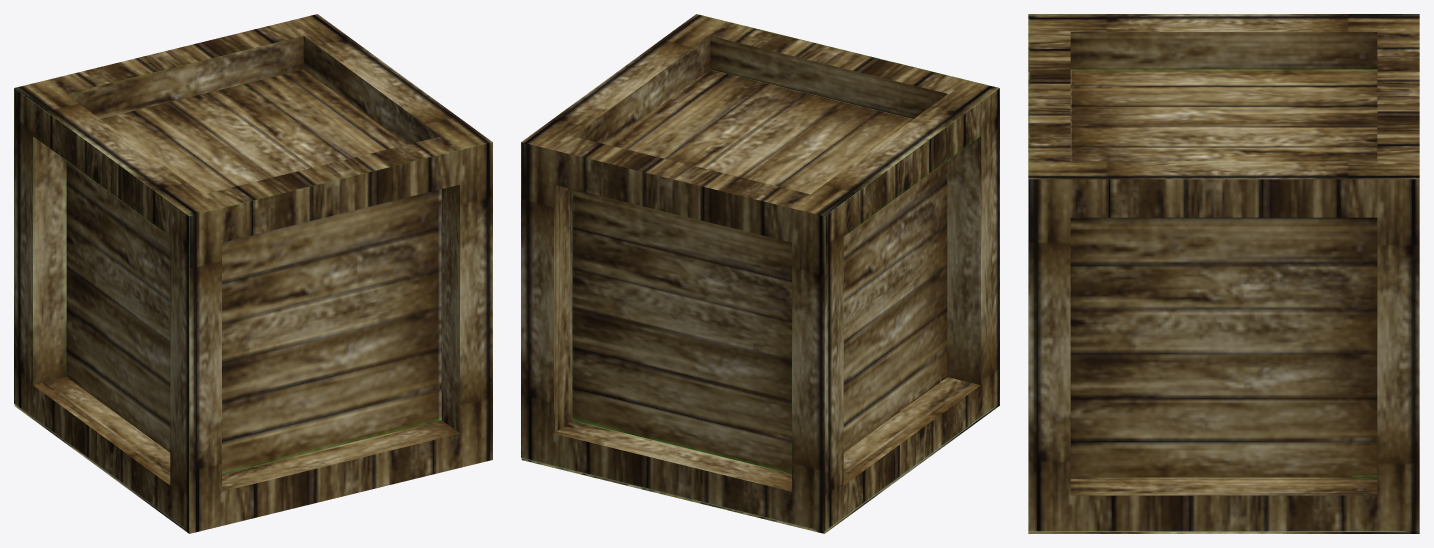
The model's file is boxsample.fbx.
3 renders of one model, left to right at view 1: azimuth 30°, elevation 25°; view 2: azimuth 150°, elevation 25°; view 3: azimuth 270°, elevation 25°, orthographic. The views are drawn at different scales.
Visible parts, largest first — view 1: Box001; view 2: Box001; view 3: Box001.
Boxes of the visible parts, x1=… form: Box001: x1=14, y1=14, x2=492, y2=533; Box001: x1=521, y1=14, x2=999, y2=533; Box001: x1=1028, y1=14, x2=1419, y2=533.
Bounding box in the file's own units: 45 × 45 × 45.
Materials: 1 (1 with a texture image).
